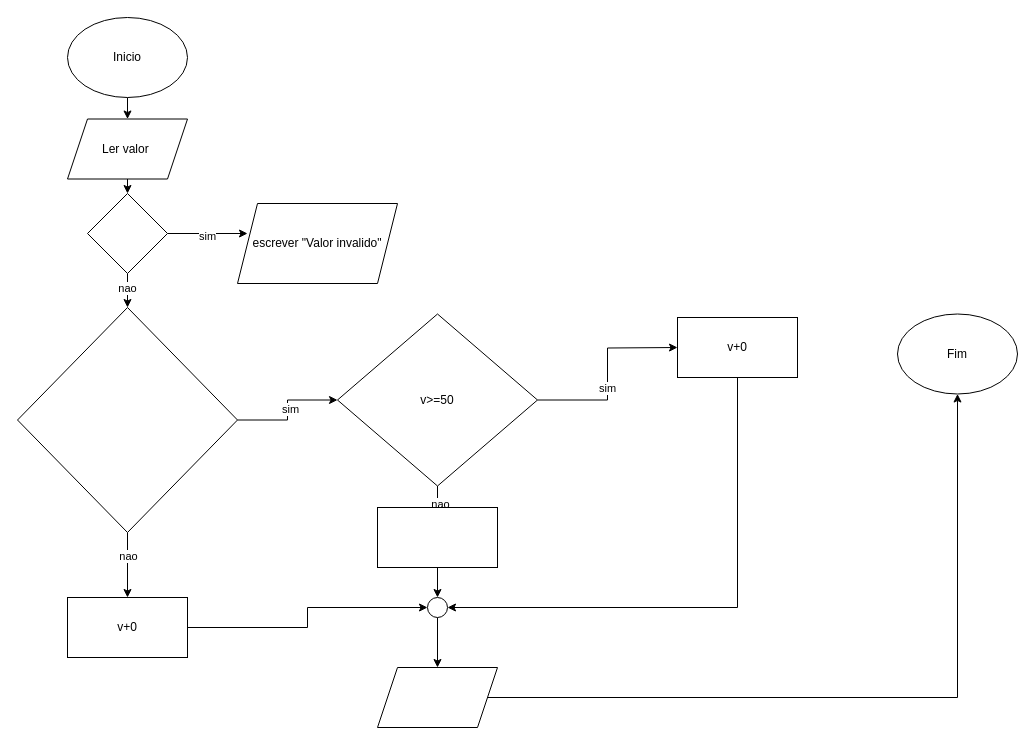
This 1035x745 diagram has some shape labels left out. Here are the shapes that lost their labels. From the top down, the centre of each, then its label:
point (127, 233): V<0
point (127, 419): Quer entrega ao domicilio
point (437, 537): v+5
point (437, 697): Mostrar resultado
